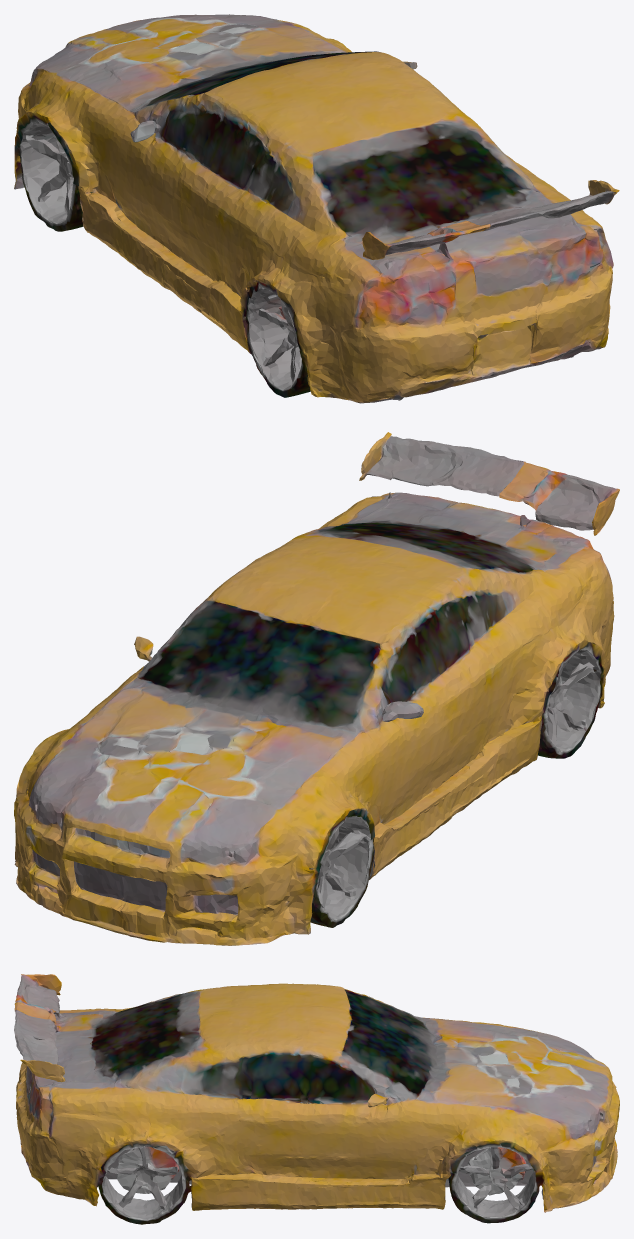
3 views of the same model, one above another, from view 1: azimuth 30°, elevation 25°; view 2: azimuth 150°, elevation 25°; view 3: azimuth 270°, elevation 25° (orthographic). The views are drawn at different scales.
Parts seen in each view (by area): view 1: defaultobject; view 2: defaultobject; view 3: defaultobject.
Part boxes in pixels (<box>): defaultobject: <box>14,14,619,403</box>; defaultobject: <box>14,432,619,945</box>; defaultobject: <box>14,974,619,1224</box>.
Size of the model in its own units: 0.4209 by 0.2748 by 0.9496.
